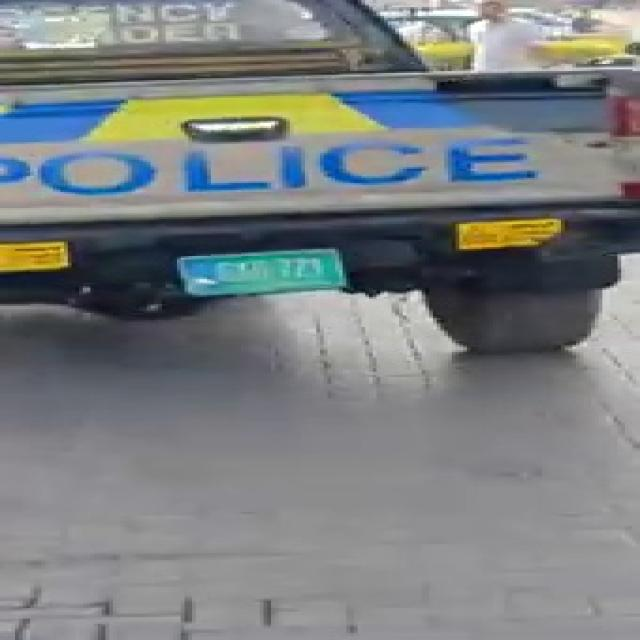police: (0, 11, 640, 353)
